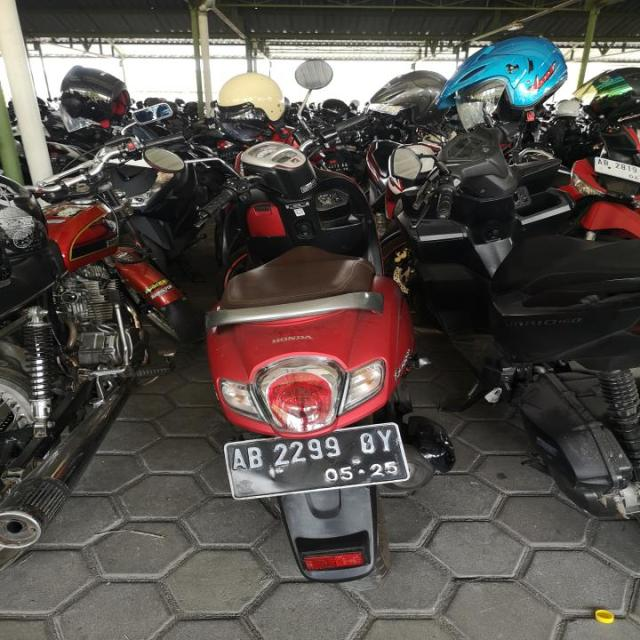License Plate: (222, 420, 412, 500), (595, 156, 640, 184)
